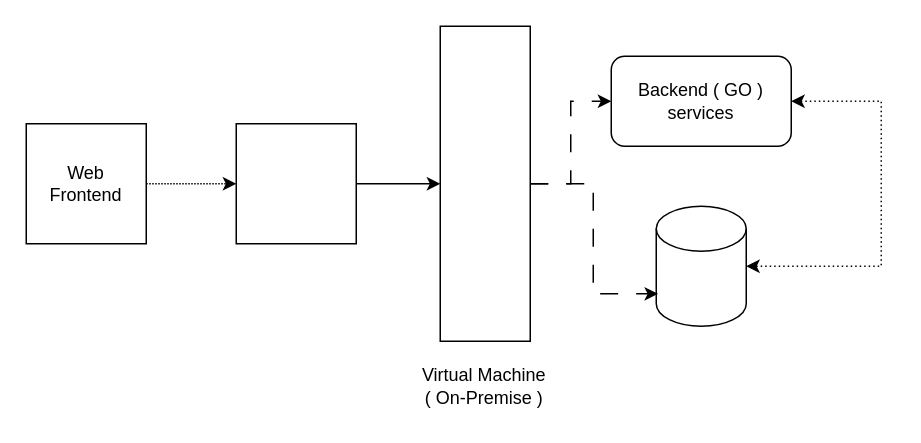
The diagram is 921 pixels wide and 443 high, and some of its shapes have lost their labels. Each missing label, with the centre of its shape:
MySQL: (700,265)
Nginx Web Server: (295,183)
